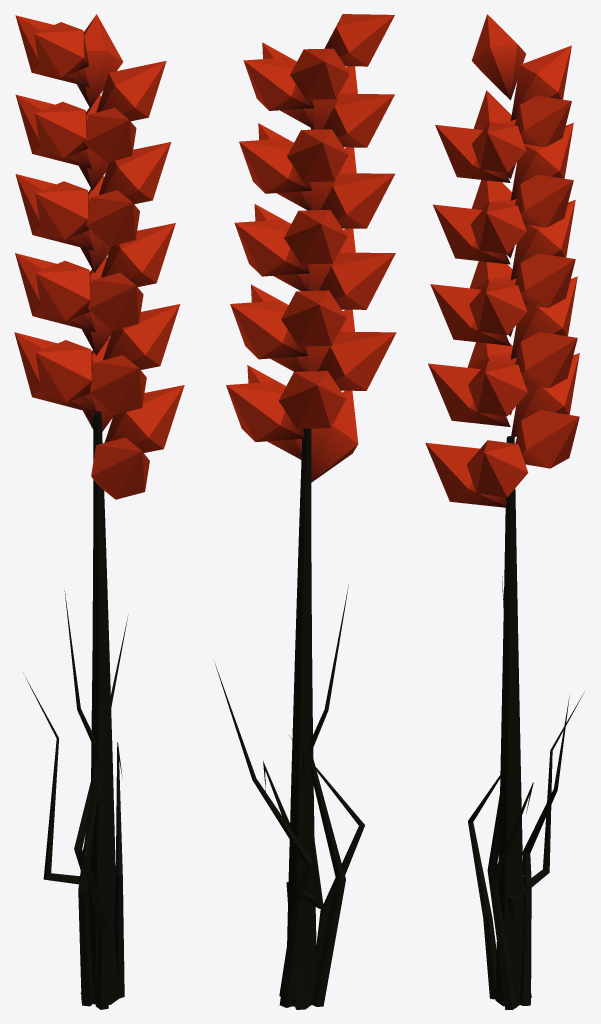
The model's file is Plant-S-3.fbx.
3 renders of one model, left to right at view 1: azimuth 30°, elevation 25°; view 2: azimuth 150°, elevation 25°; view 3: azimuth 270°, elevation 25°, orthographic. The views are drawn at different scales.
Parts seen in each view (by area): view 1: OUT-Plant; view 2: OUT-Plant; view 3: OUT-Plant.
Part boxes in pixels (x1,y1,x2,y2): OUT-Plant: (14,14,184,1009); OUT-Plant: (215,14,396,1009); OUT-Plant: (425,14,584,1009).
Bounding box in the file's own units: 0.0592 × 0.3777 × 0.0582.
